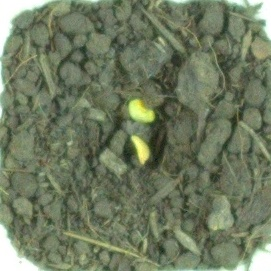pepper seed: (50, 51, 205, 218), (49, 36, 206, 161)
